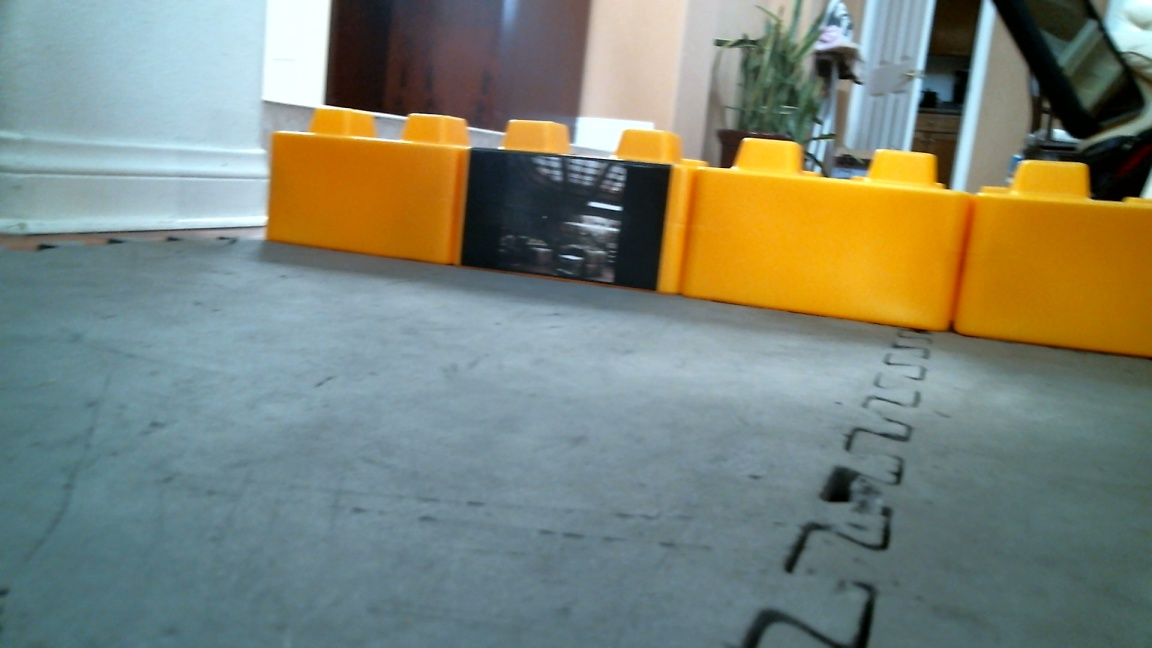skystone: (457, 117, 695, 295)
stone: (685, 135, 961, 335), (957, 157, 1152, 354), (265, 107, 467, 268)
